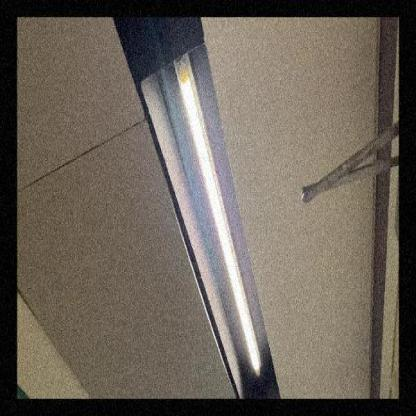light_on: (166, 49, 268, 382)
